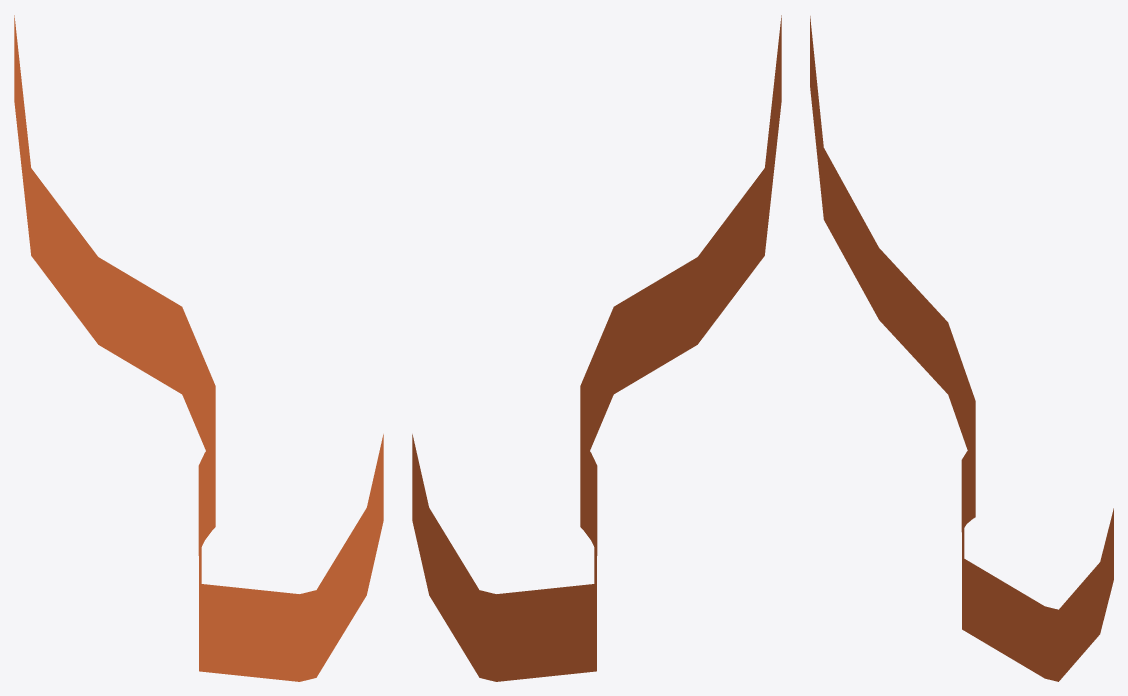
File: kusudamanohimo.fbx
3 views of the same model, side by side, from view 1: azimuth 30°, elevation 25°; view 2: azimuth 150°, elevation 25°; view 3: azimuth 330°, elevation 25° (orthographic). The views are drawn at different scales.
Visible parts, largest first — view 1: 開いた線形状の掃引体; view 2: 開いた線形状の掃引体; view 3: 開いた線形状の掃引体.
Part boxes in pixels (left/top/right/bottom): 開いた線形状の掃引体: left=14, top=15, right=383, bottom=681; 開いた線形状の掃引体: left=412, top=15, right=781, bottom=681; 開いた線形状の掃引体: left=810, top=16, right=1113, bottom=681.
Bounding box in the file's own units: 110 × 210 × 0.
